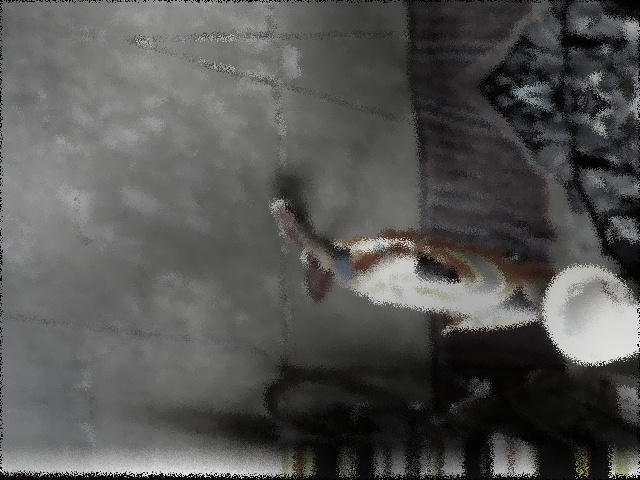three: (602, 280, 639, 307)
